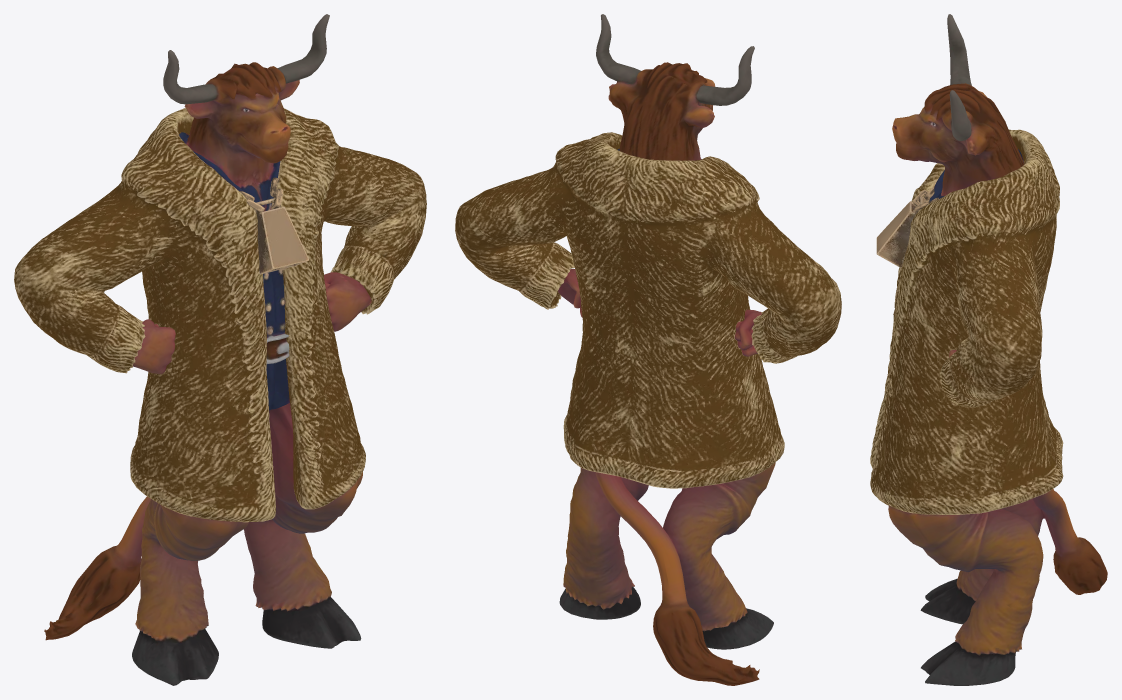
The model's file is MZ4250 - Minotaur Male Bard Fur Coat.glb.
3 renders of one model, left to right at view 1: azimuth 30°, elevation 25°; view 2: azimuth 150°, elevation 25°; view 3: azimuth 270°, elevation 25°, orthographic. The views are drawn at different scales.
Visible parts, largest first — view 1: Body.001; view 2: Body.001; view 3: Body.001.
Part boxes in pixels (x1,y1,x2,y2): Body.001: (14, 14, 426, 685); Body.001: (455, 14, 841, 685); Body.001: (870, 14, 1107, 685).
Size of the model in its own units: 1.83 by 2.7 by 0.9902.
Materials: 3 (3 with a texture image).
